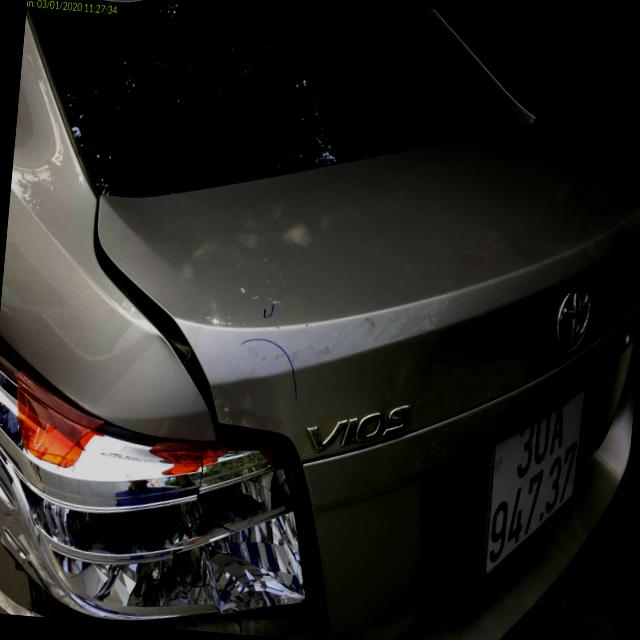Dechirure: (66, 190, 241, 441), (211, 612, 261, 636)
Phare abime: (0, 339, 339, 640)
